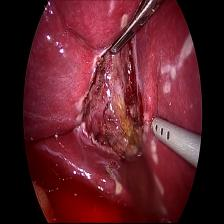Grasper: (110, 0, 168, 55)
Irrigator: (150, 114, 184, 156)
